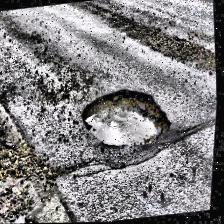pothole: (77, 81, 179, 155)
